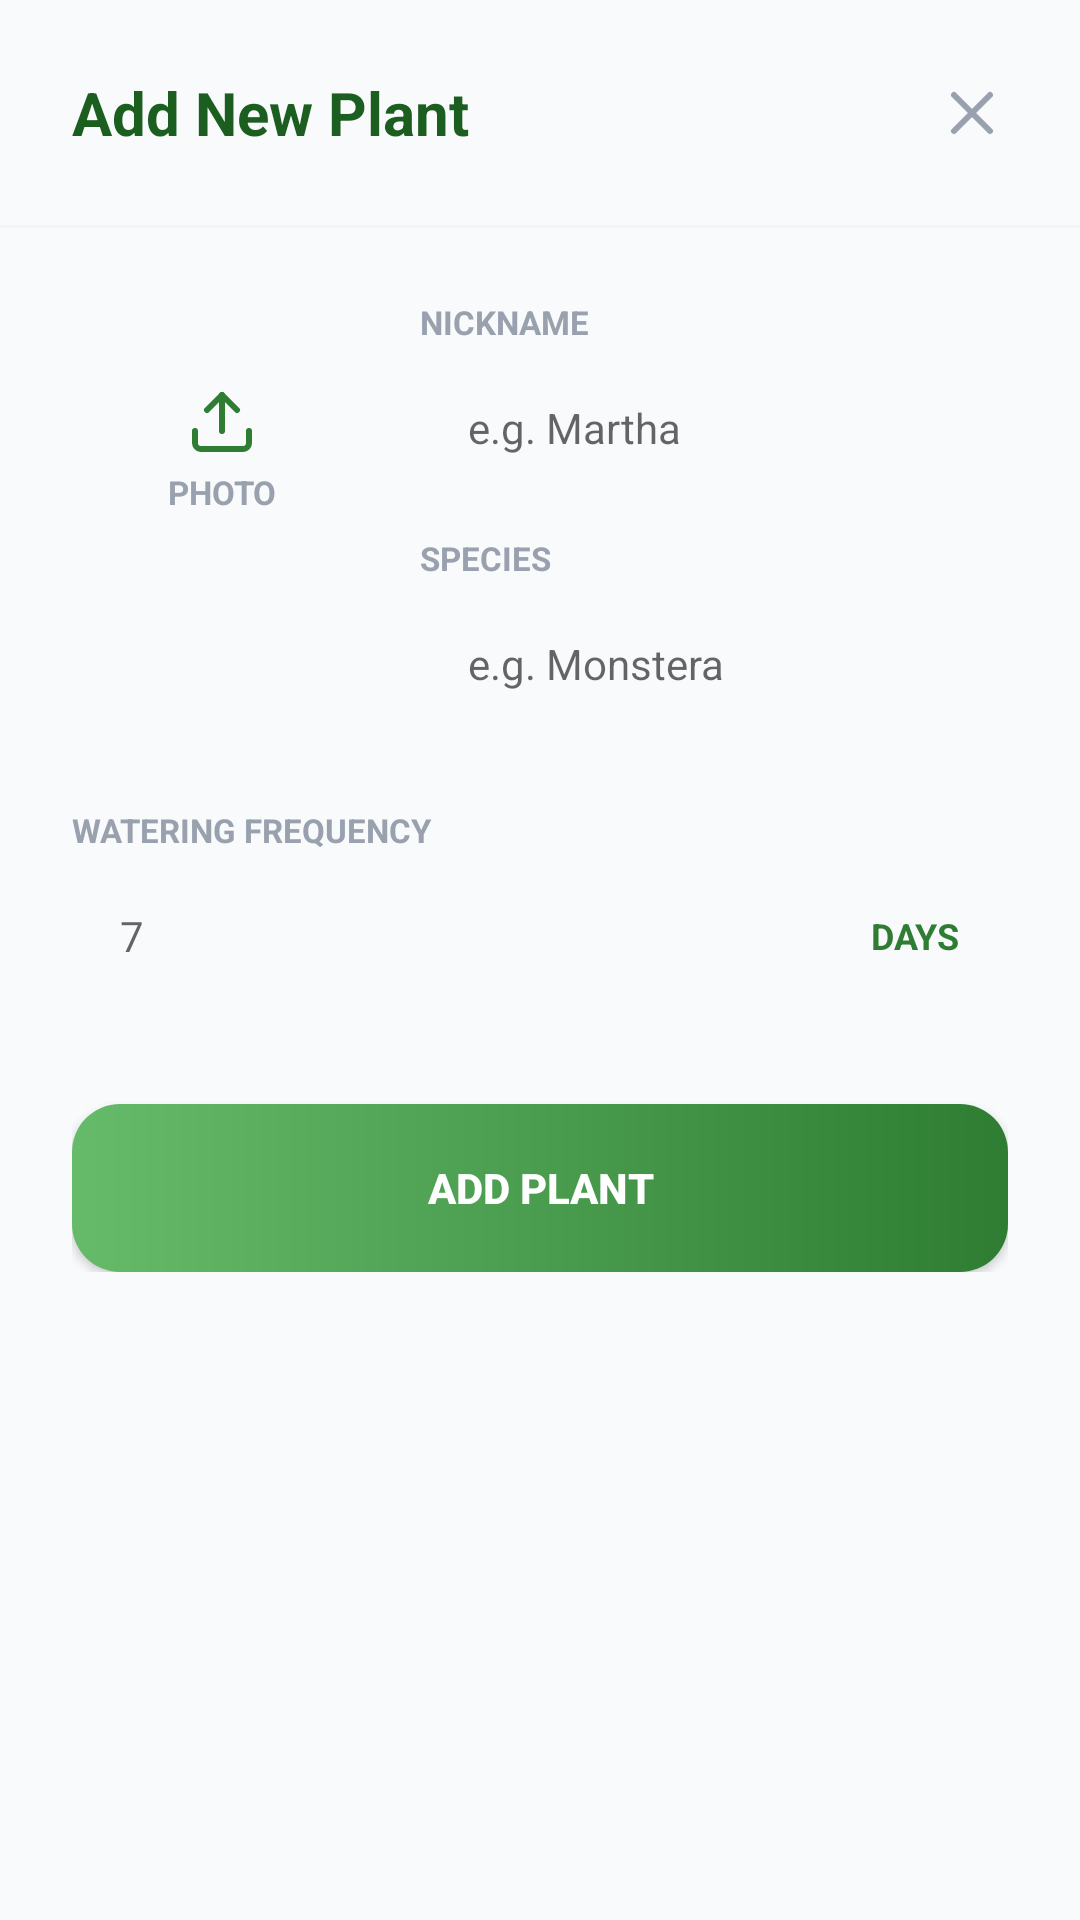

Icons on this 1080 x 1920 Android screen, each with the point to tap as (x=x, y=y):
Close: (x=972, y=113)
Upload Icon: (x=222, y=422)
